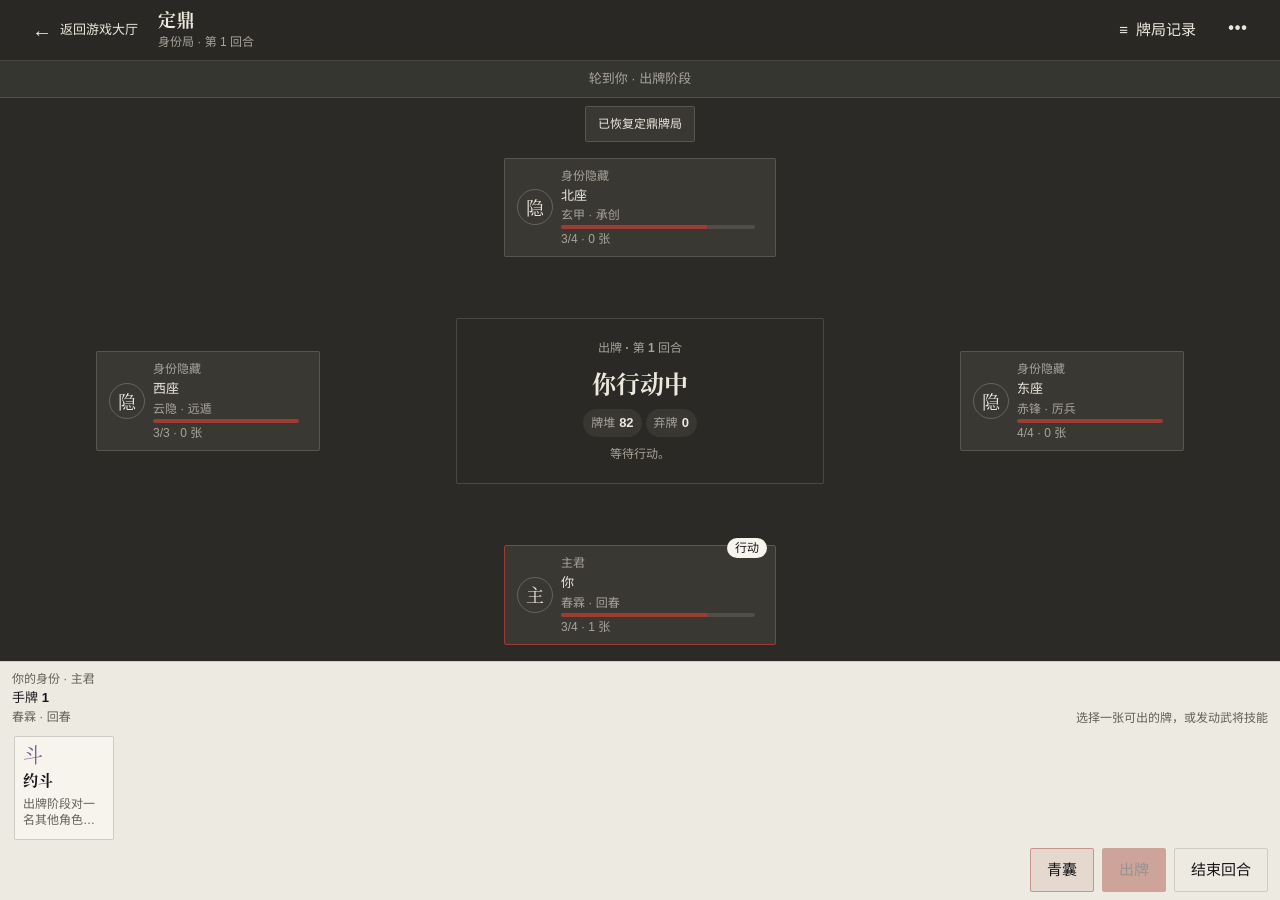
Test: DingDingGame card target selection › requires one target for a multi-target card and exposes only that seat as pressed
The width and height of the screenshot is (1280, 900).
What coordinates should you click on to do the following:
click the button with aria-label "约斗，可打出"
I would click on:
 (64, 788)
Its box is [14, 736, 114, 840].
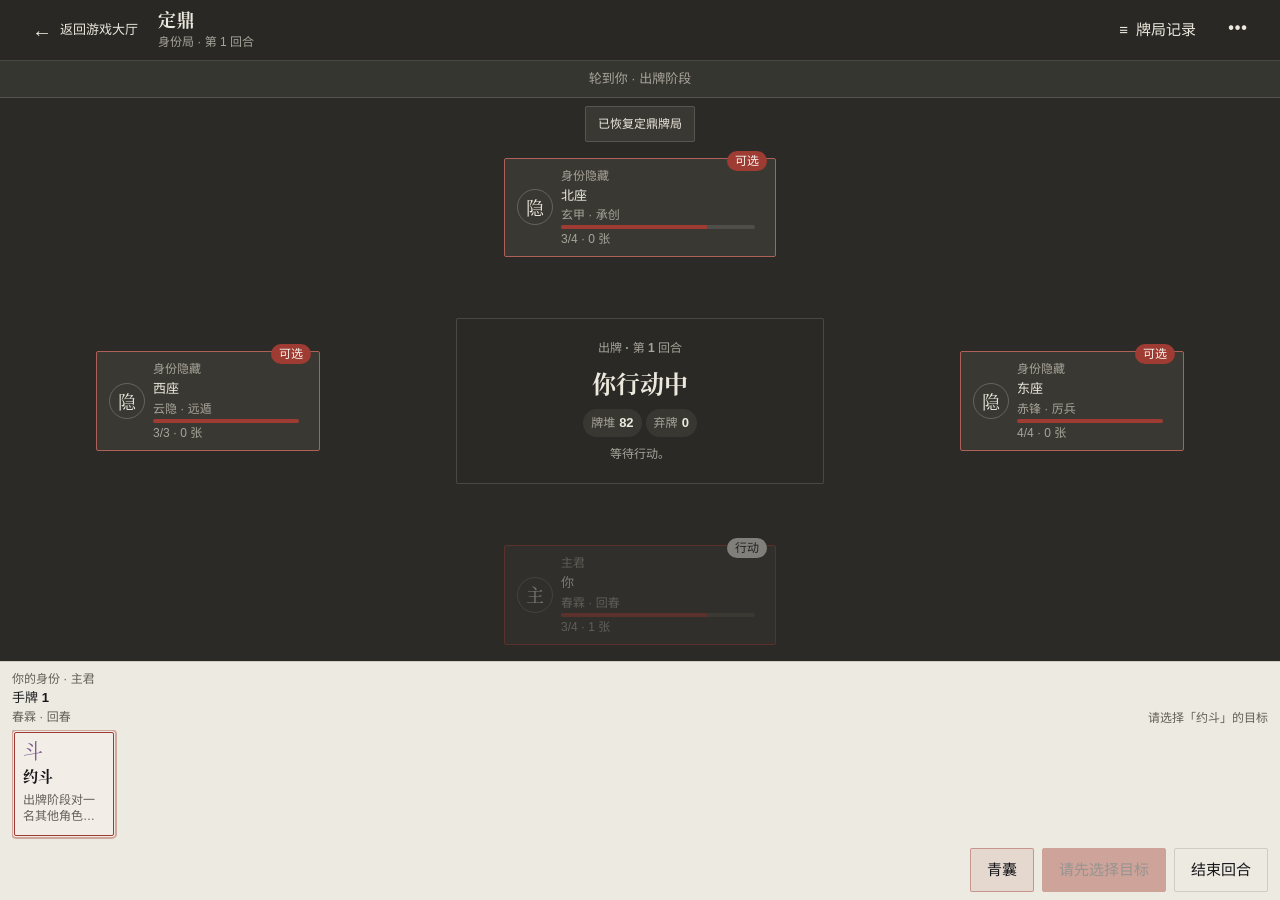
Check: the button "请先选择目标" is disabled, box [1042, 848, 1166, 892]
Check: the text "请选择「约斗」的目标" is shown, box [1148, 710, 1268, 726]
What coordinates should you click on to do the following:
click the button "隐 身份隐藏 东座 赤锋 · 厉兵 4/4 · 0 张 可选"
I would click on:
 (1072, 401)
Its box is [960, 351, 1184, 451].
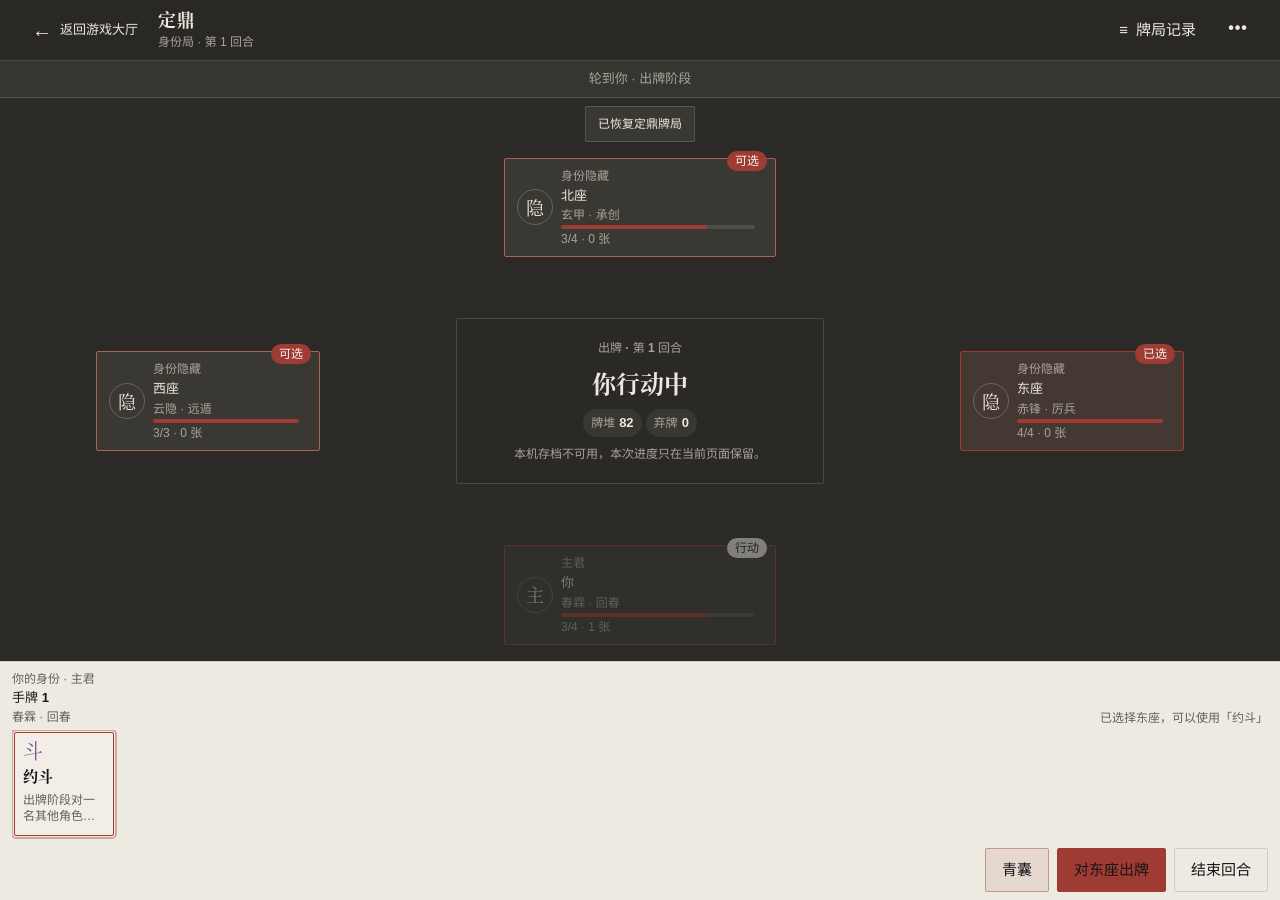
Check: the button with aria-label "使用「约斗」对东座出牌" is enabled, box [1057, 848, 1166, 892]
